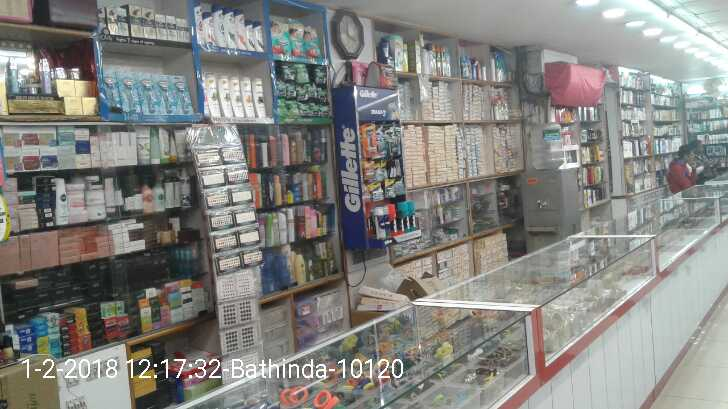gillete: (362, 125, 375, 155), (385, 128, 396, 155), (389, 205, 399, 234), (376, 210, 386, 238), (385, 180, 397, 200), (370, 185, 383, 202), (390, 161, 401, 178), (375, 164, 388, 178), (405, 204, 411, 230), (411, 201, 416, 230), (386, 209, 389, 238), (399, 218, 404, 234)
venus: (104, 70, 125, 113), (125, 74, 142, 113), (142, 74, 159, 112), (159, 77, 175, 112), (175, 77, 190, 111)
